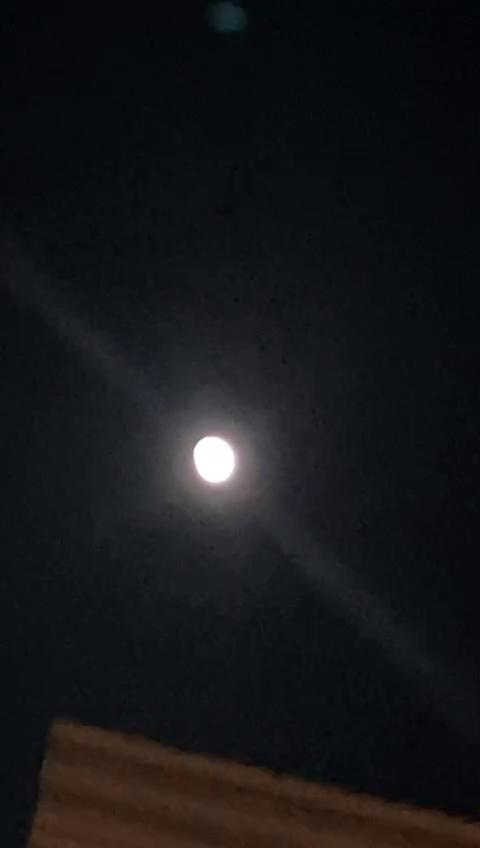moon: (187, 418, 255, 494)
